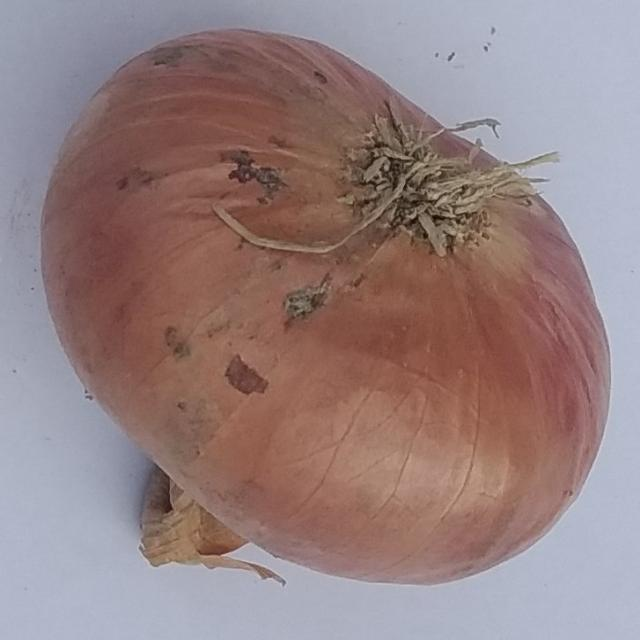onion: (39, 29, 614, 588)
